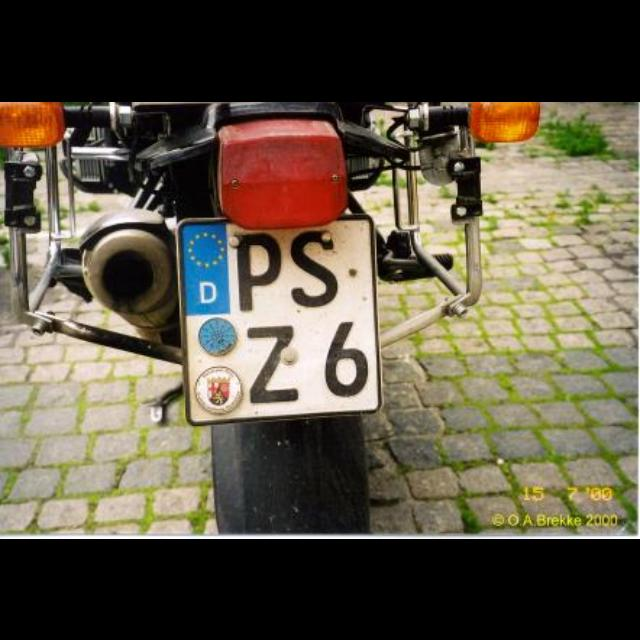d_license_plate: (178, 213, 380, 421)
